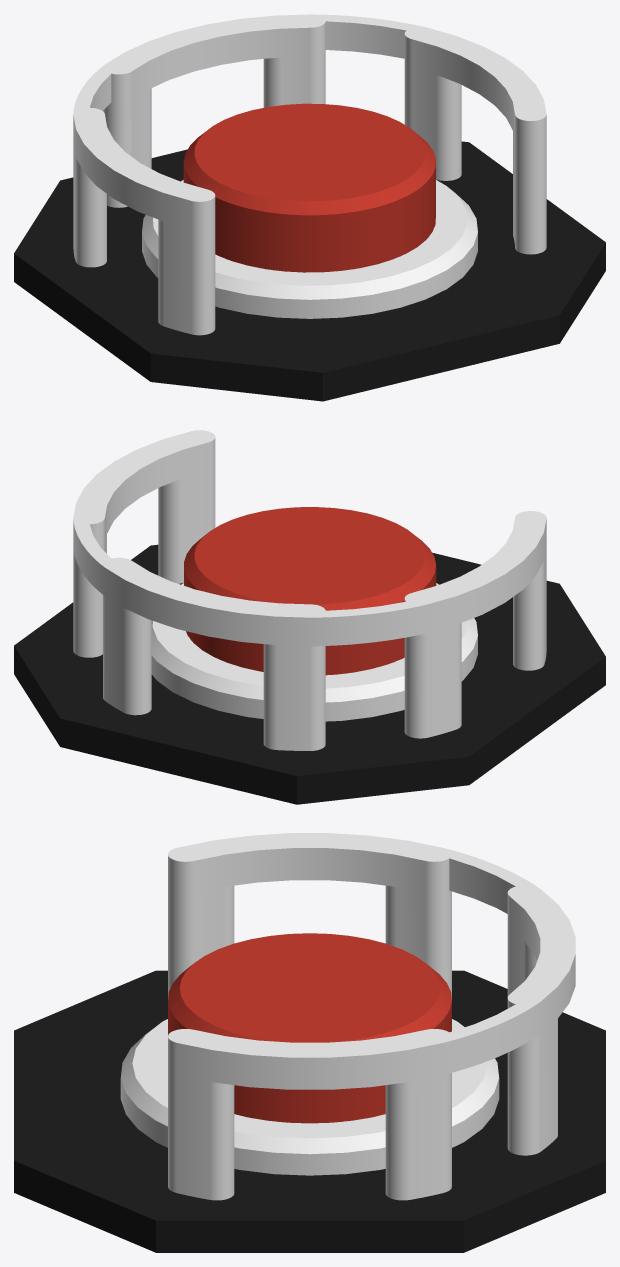
Rendered from button-5-f-s.obj.
3 views of the same model, one above another, from view 1: azimuth 30°, elevation 25°; view 2: azimuth 150°, elevation 25°; view 3: azimuth 270°, elevation 25° (orthographic). The views are drawn at different scales.
Parts seen in each view (by area): view 1: Body1, Body2; view 2: Body1, Body2; view 3: Body1, Body2.
Boxes of the visible parts, bbox=[...] form: Body1: bbox=[14, 14, 605, 401]; Body2: bbox=[183, 103, 435, 272]; Body1: bbox=[14, 430, 605, 804]; Body2: bbox=[184, 507, 436, 675]; Body1: bbox=[14, 833, 605, 1252]; Body2: bbox=[168, 933, 451, 1123].
Size of the model in its own units: 5 by 1.7 by 5.
